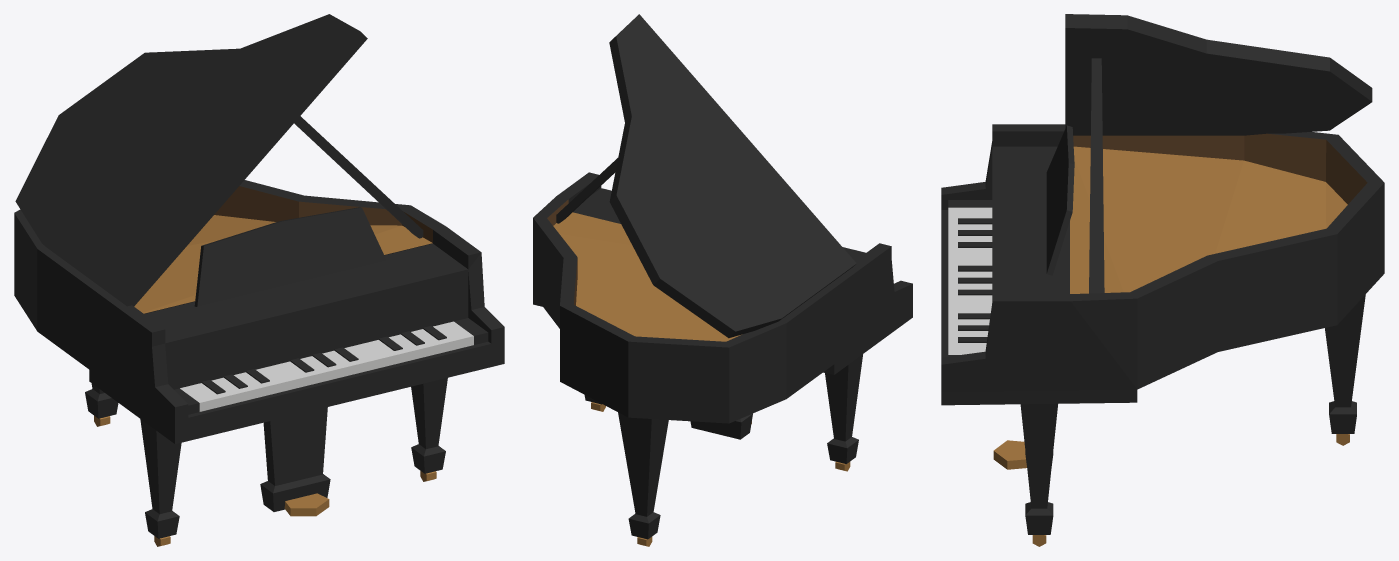
Rendered from piano.glb.
3 renders of one model, left to right at view 1: azimuth 30°, elevation 25°; view 2: azimuth 150°, elevation 25°; view 3: azimuth 270°, elevation 25°, orthographic. The views are drawn at different scales.
Visible parts, largest first — view 1: piano; view 2: piano; view 3: piano.
Boxes of the visible parts, left/top/right/bottom form: piano: left=14, top=14, right=504, bottom=546; piano: left=533, top=14, right=912, bottom=546; piano: left=941, top=14, right=1384, bottom=546.
Bounding box in the file's own units: 1.49 × 1.96 × 1.58.
Materials: 1 (1 with a texture image).
